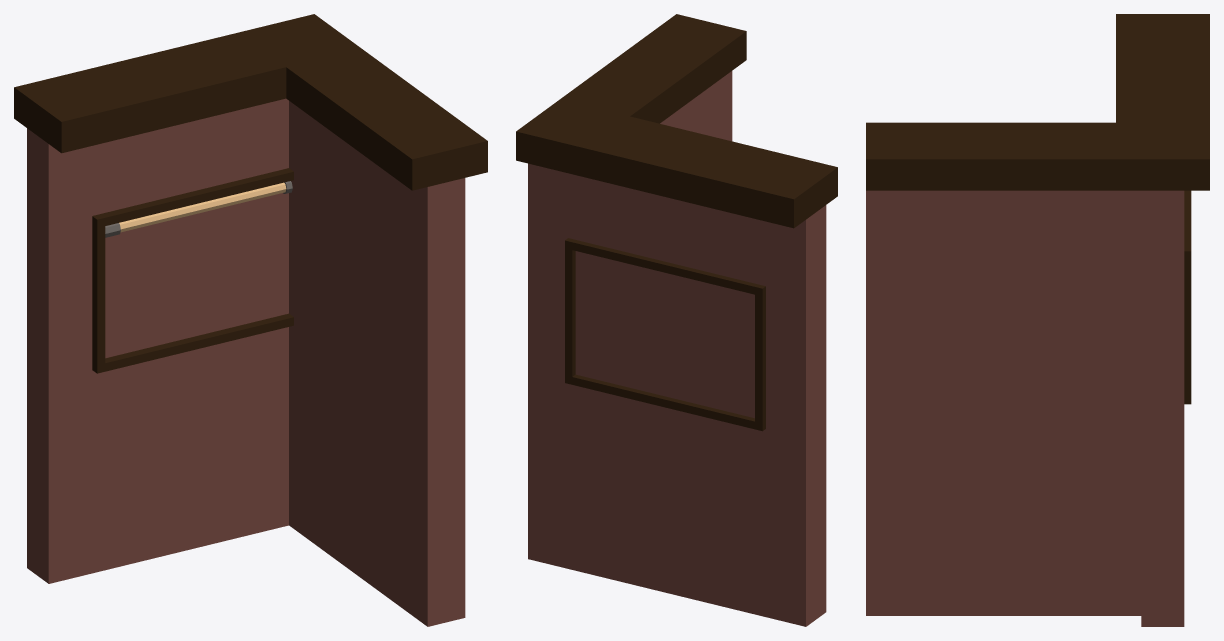
Rendered from WallsObjecten 1.fbx.
3 renders of one model, left to right at view 1: azimuth 30°, elevation 25°; view 2: azimuth 150°, elevation 25°; view 3: azimuth 270°, elevation 25°, orthographic. The views are drawn at different scales.
Parts seen in each view (by area): view 1: WallCorner, WallBase, WallWindow; view 2: WallBase, WallWindow, WallCorner; view 3: WallCorner, WallBase, WallWindow.
Part boxes in pixels (x1,y1,x2,y2): WallCorner: [14, 15, 487, 626]; WallBase: [14, 14, 361, 583]; WallWindow: [17, 15, 358, 583]; WallBase: [516, 99, 837, 626]; WallWindow: [516, 99, 836, 625]; WallCorner: [516, 14, 834, 625]; WallCorner: [866, 14, 1209, 615]; WallBase: [1116, 14, 1209, 626]; WallWindow: [1116, 14, 1209, 626].
Size of the model in its own units: 200 by 300 by 200.
